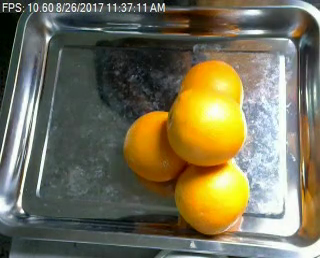Orange: (167, 89, 248, 166), (177, 158, 249, 235), (122, 110, 188, 180), (179, 58, 244, 114)
